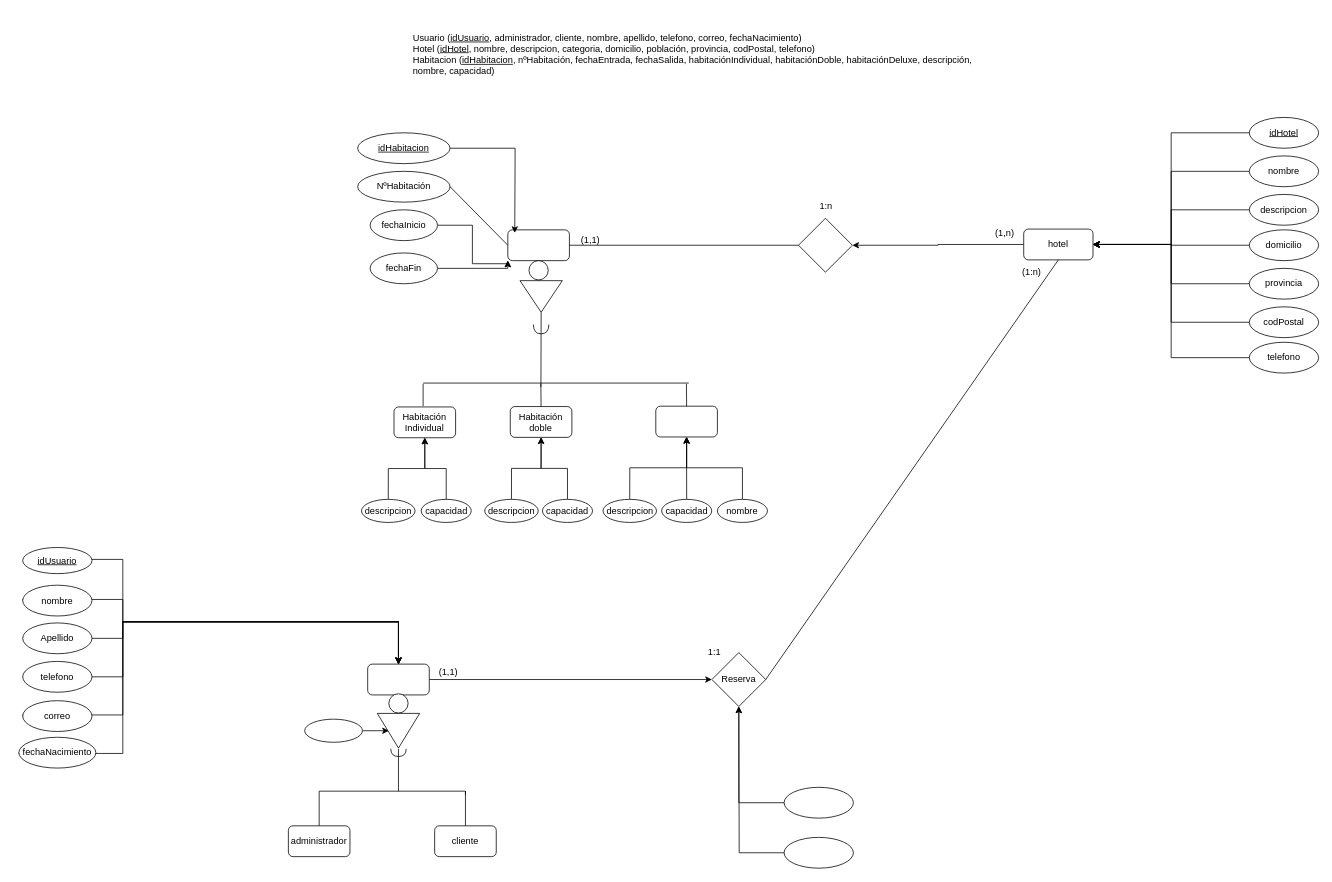
Some shapes in this 1332 by 882 pixel diagram are drawn without their labels. The shapes that lost their labels are listed below. From the top down, each one's box as (x1, y1, x2, y2) in pixels, then its label:
(507, 229, 569, 261): Habitación
(798, 218, 852, 272): tiene
(655, 405, 717, 437): Habitación Deluxe
(367, 663, 429, 695): Usuario
(304, 718, 362, 742): tipo
(783, 787, 853, 818): precio
(783, 837, 853, 868): metodo de pago
